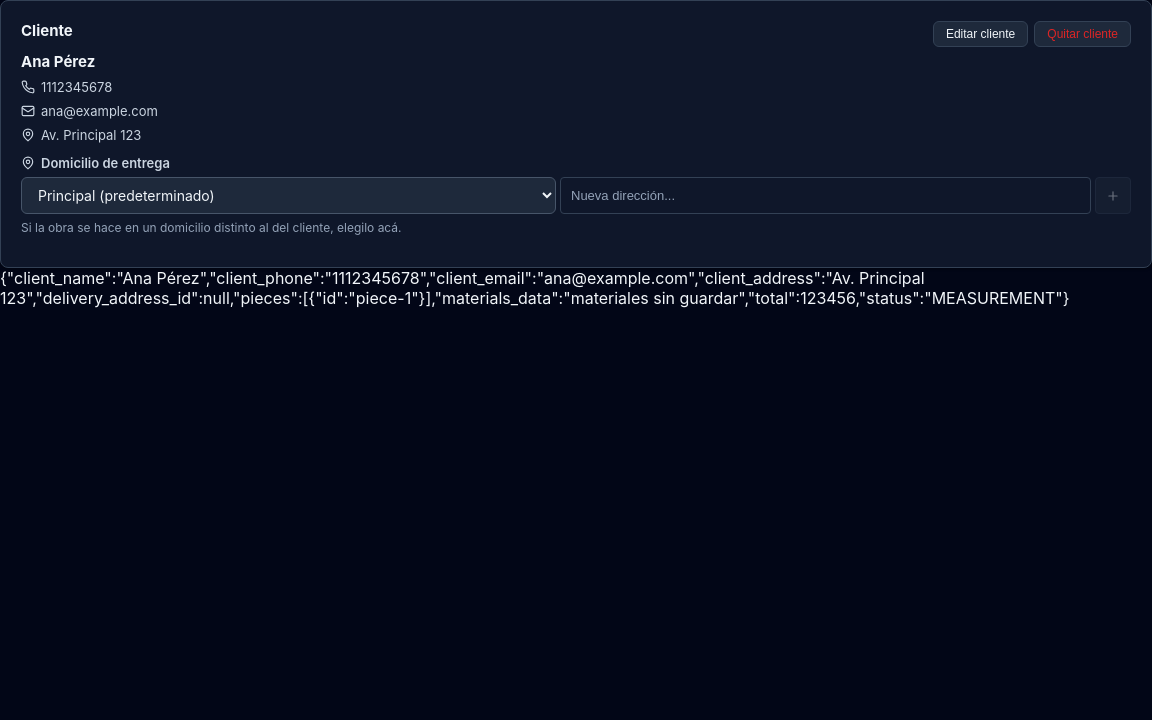
Test: EditClientModal › updates the same client ID, visible data, and preserves unsaved order fields
Click the button "Editar cliente" at (981, 34), box [933, 21, 1028, 47]
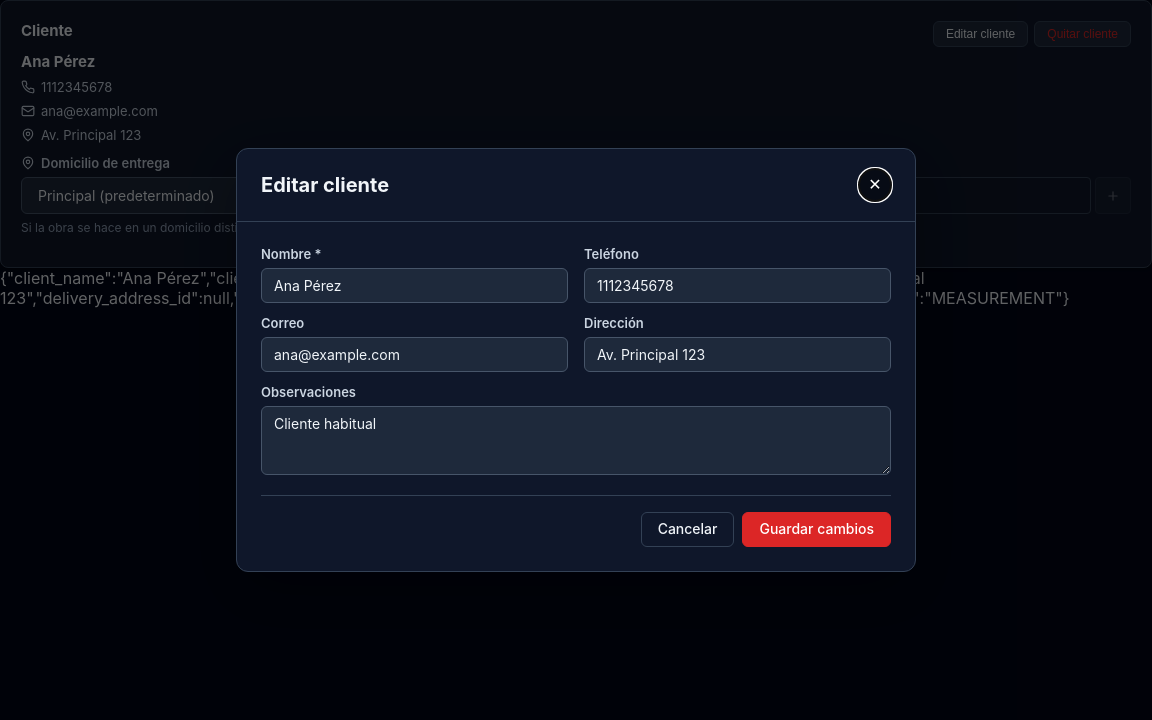
Replace the text in the field showing "Ana Pérez" below "Nombre *" with "Ana Actualizada" at (414, 286), box [261, 268, 568, 303]
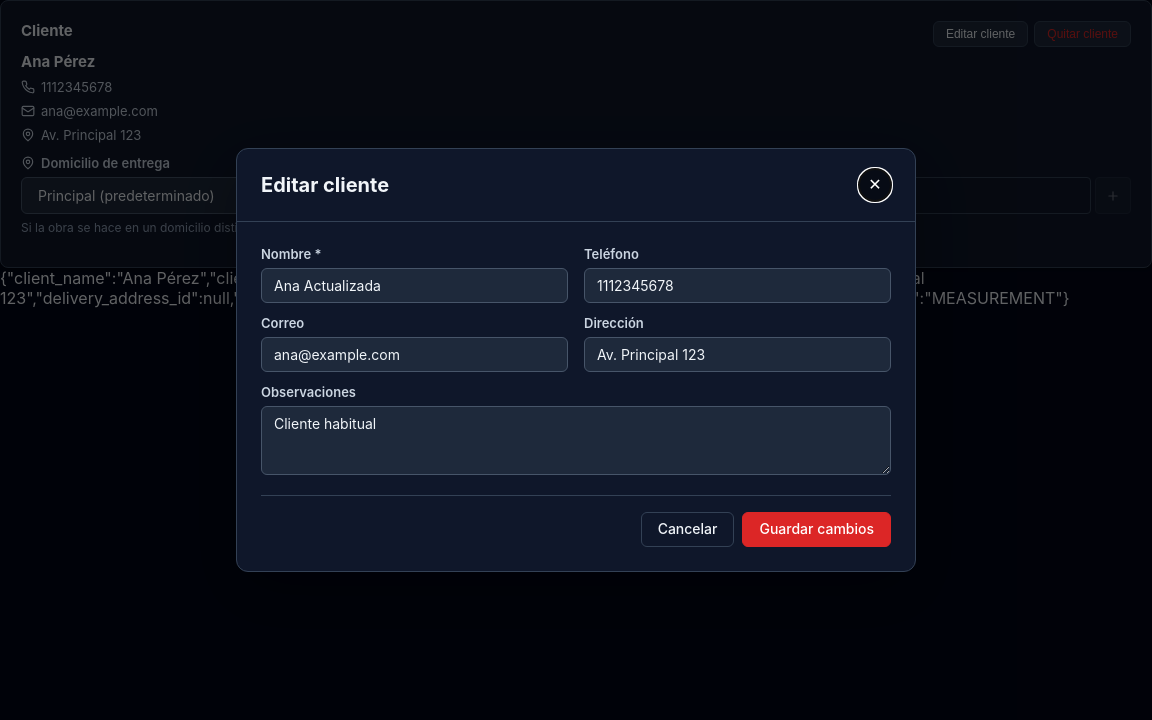
Replace the text in the field showing "1112345678" below "Teléfono" with "1199999999" at (738, 286), box [584, 268, 891, 303]
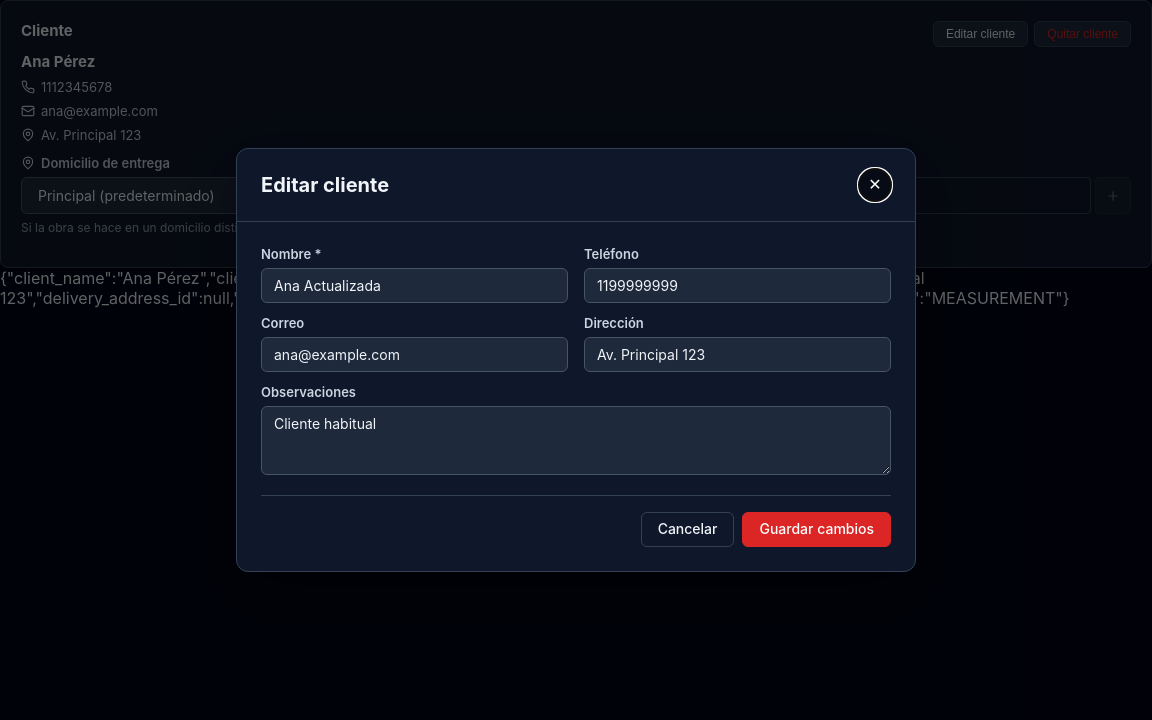
Click the button "Guardar cambios" at (817, 530), box [742, 512, 891, 547]
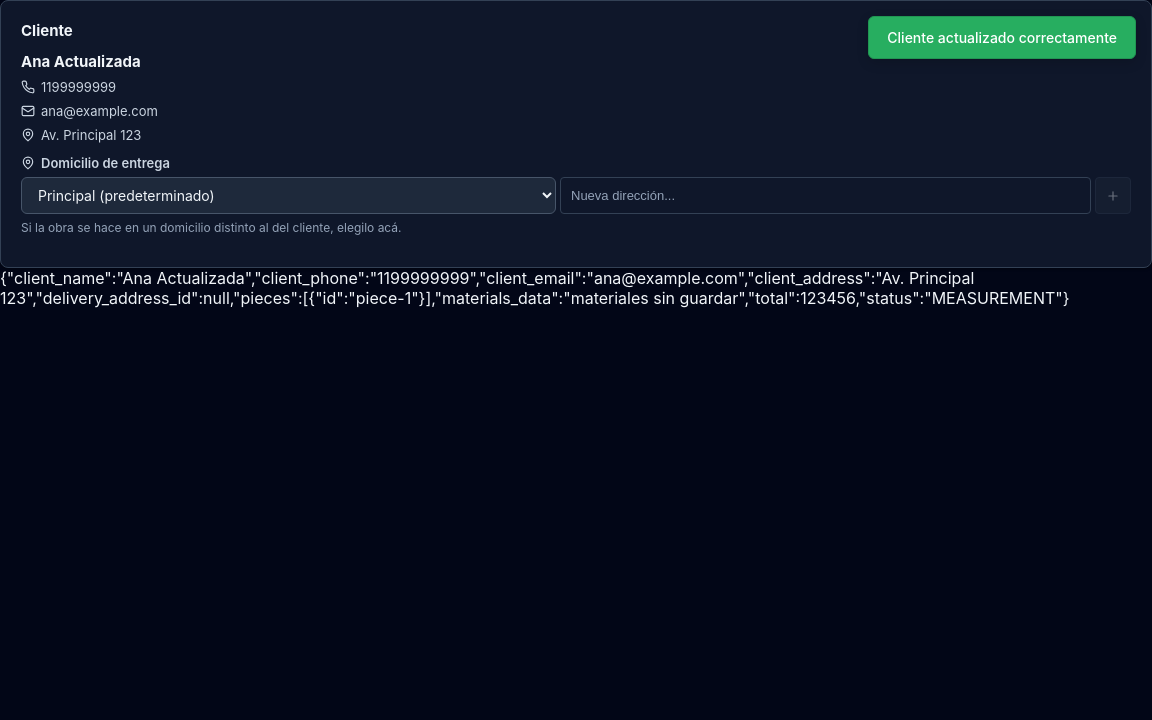
Expected: the text with test id "order-state" shows "piece-1", [0, 268, 1070, 308]
Expected: the dialog is gone
Expected: the text "Ana Actualizada" is shown, [21, 52, 158, 71]
